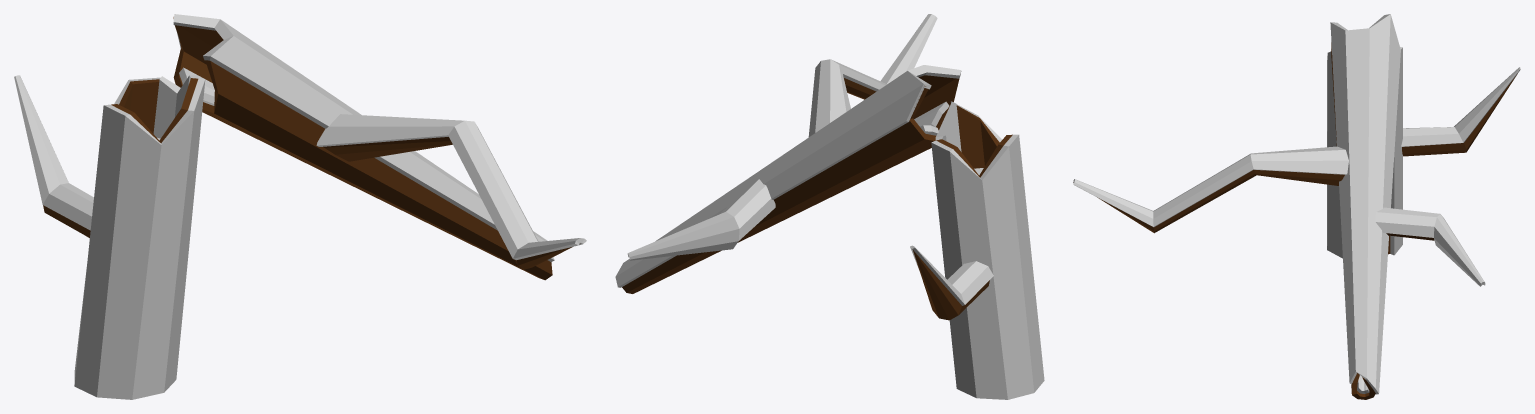
File: Tree_07.fbx
The picture shows the model from 3 angles, left to right: view 1: azimuth 30°, elevation 25°; view 2: azimuth 150°, elevation 25°; view 3: azimuth 270°, elevation 25°; orthographic projection. The views are drawn at different scales.
Parts seen in each view (by area): view 1: Tree_07; view 2: Tree_07; view 3: Tree_07.
Part boxes in pixels (x1,y1,x2,y2): Tree_07: (14, 14, 586, 399); Tree_07: (615, 14, 1044, 399); Tree_07: (1073, 14, 1520, 399).
Bounding box in the file's own units: 362 × 246 × 388.
